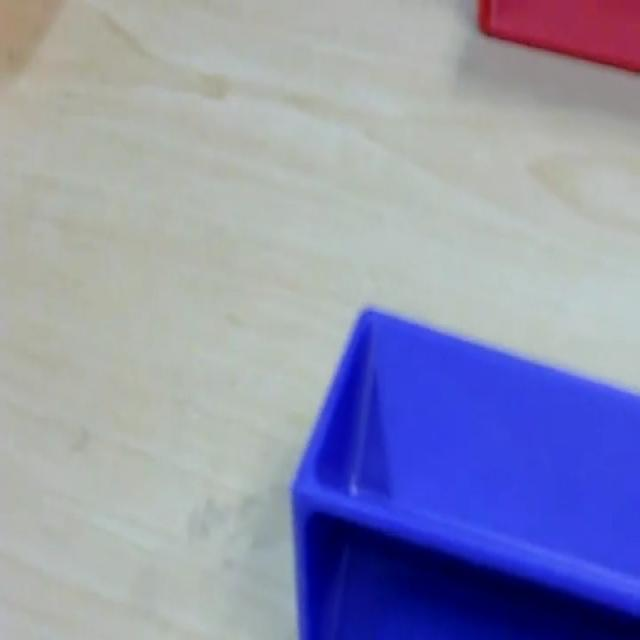blue_block: (289, 303, 638, 636)
